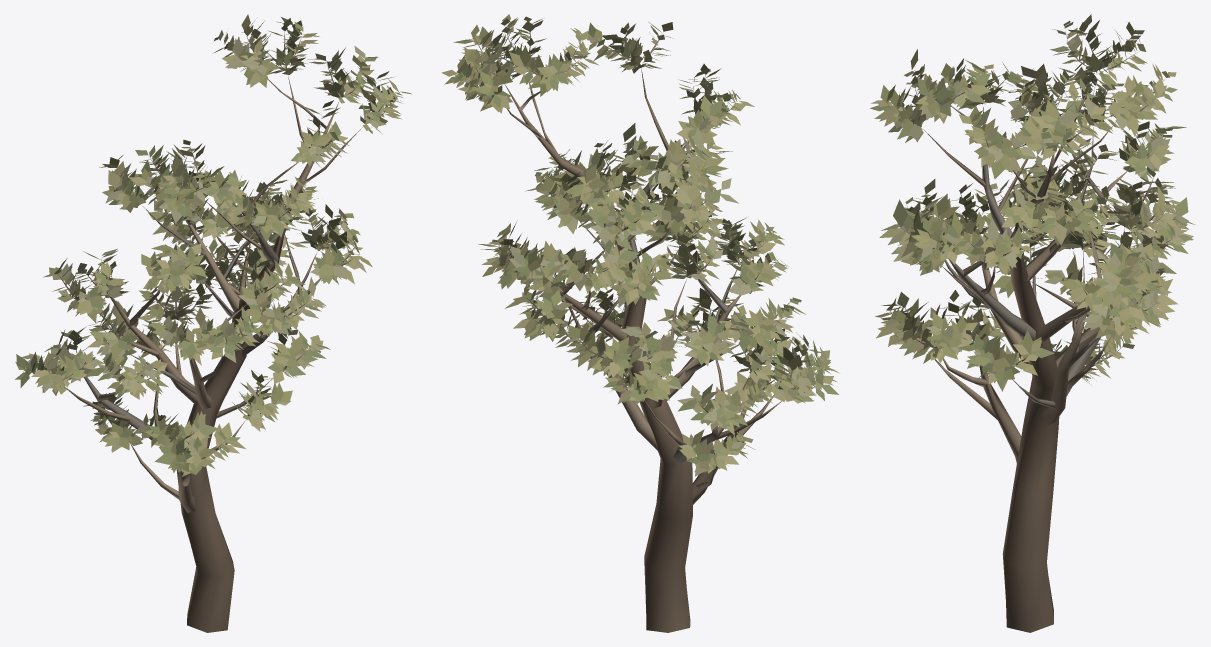
3 views of the same model, side by side, from view 1: azimuth 30°, elevation 25°; view 2: azimuth 150°, elevation 25°; view 3: azimuth 270°, elevation 25° (orthographic). The views are drawn at different scales.
Parts seen in each view (by area): view 1: t02; view 2: t02; view 3: t02.
Part boxes in pixels (x1,y1,x2,y2): t02: (15,14,411,632); t02: (441,14,839,632); t02: (870,14,1195,632).
Size of the model in its own units: 2.3 by 3.4 by 1.57.
